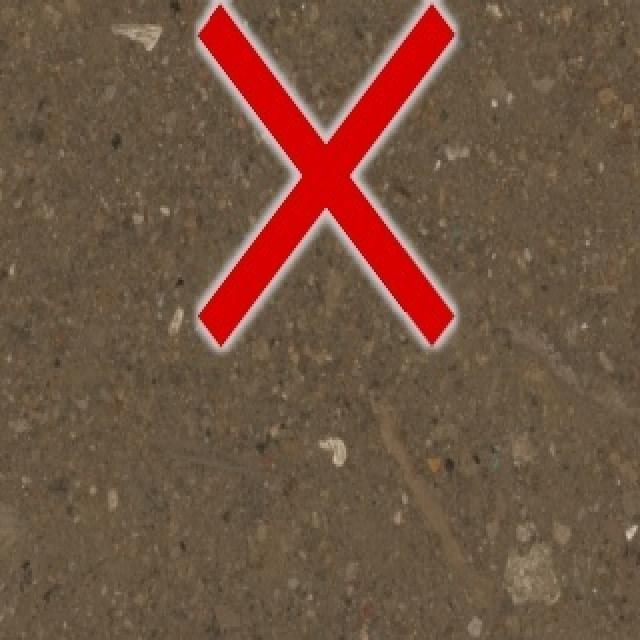x_marker: (199, 4, 453, 345)
